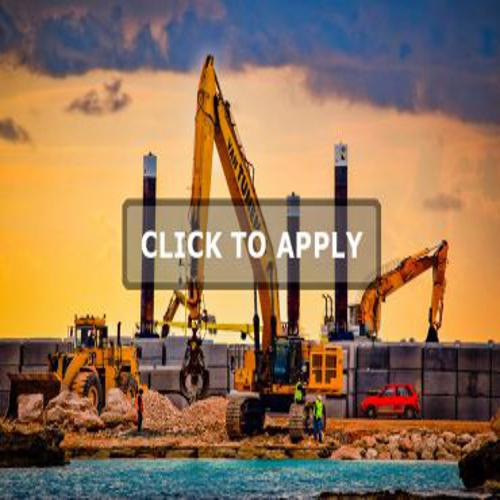con_eq: (178, 53, 347, 440), (16, 309, 146, 421), (350, 238, 451, 338)
